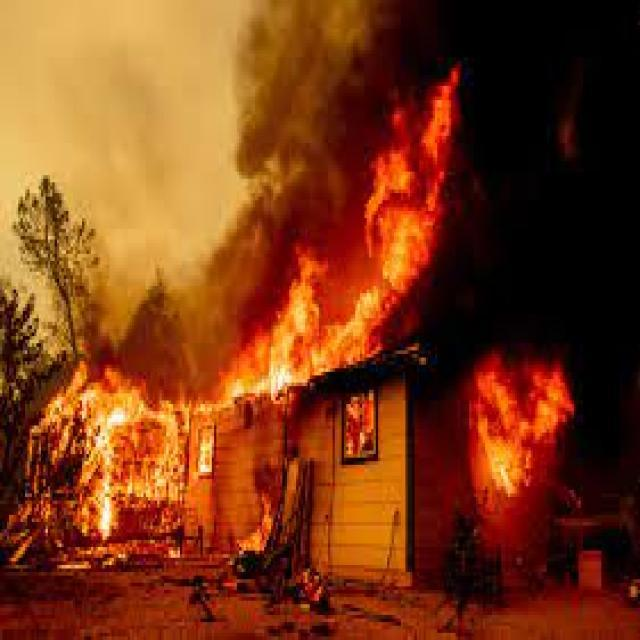Fire: (59, 366, 182, 534), (227, 296, 379, 390), (382, 116, 464, 276), (478, 363, 567, 498)
Smoke: (465, 8, 640, 389), (225, 0, 410, 317), (113, 277, 238, 412)
